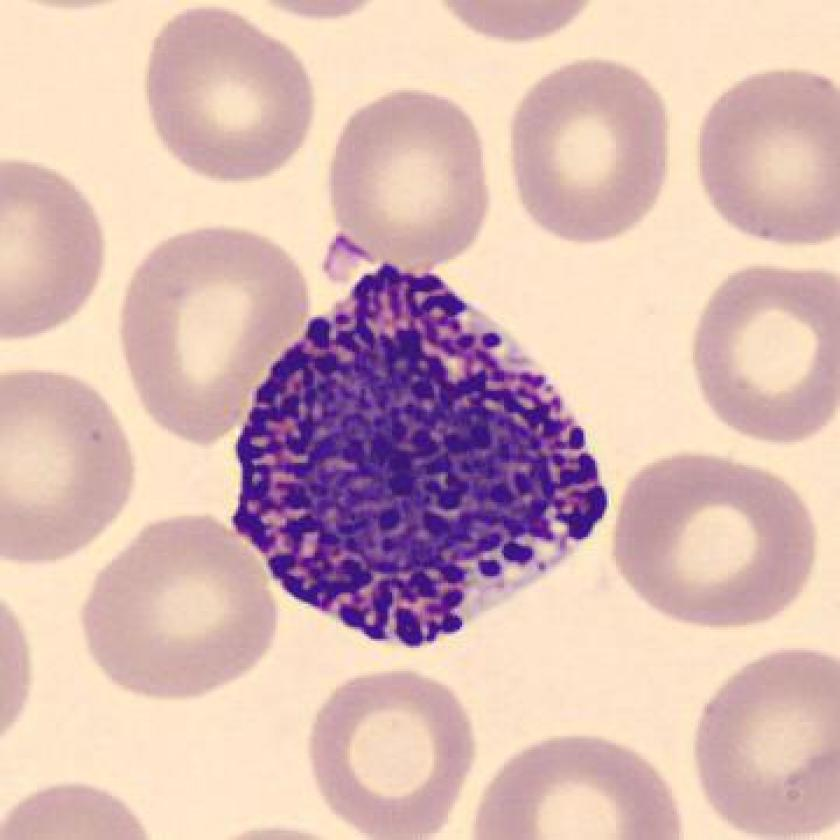basophil: (237, 253, 615, 651)
